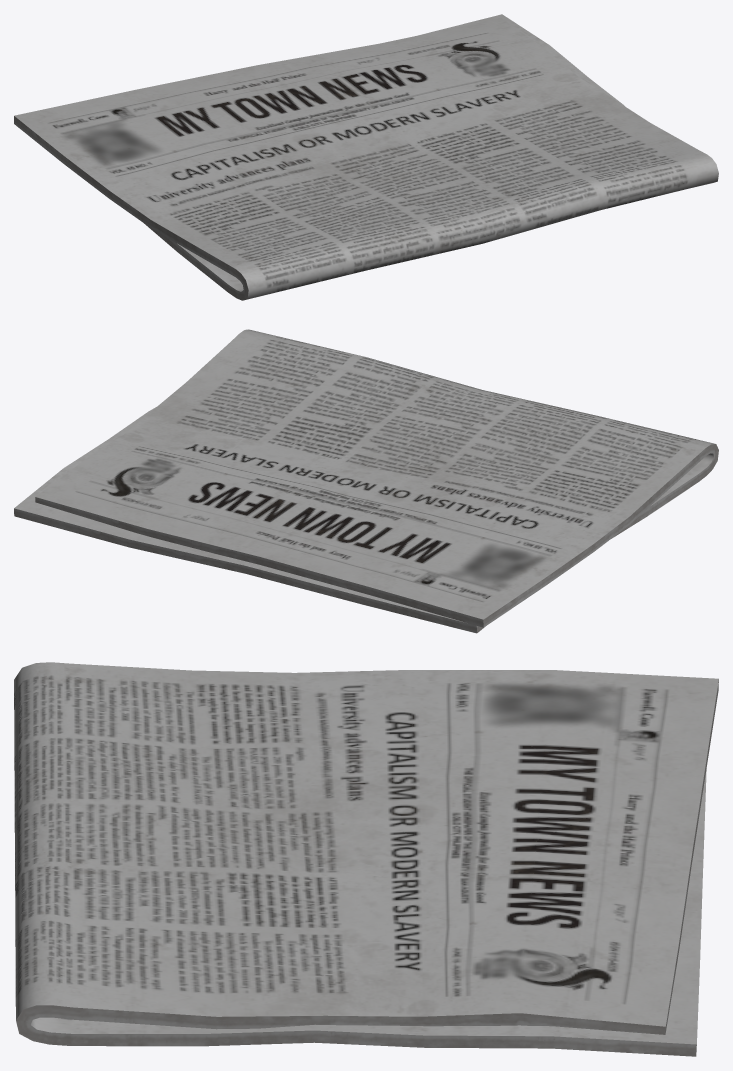
Rendered from SM_Small_Trash_NewsPaper_04.FBX.
3 views of the same model, one above another, from view 1: azimuth 30°, elevation 25°; view 2: azimuth 150°, elevation 25°; view 3: azimuth 270°, elevation 25° (orthographic). The views are drawn at different scales.
Parts seen in each view (by area): view 1: SM_Small_Trash_NewsPaper_04_LOD0; view 2: SM_Small_Trash_NewsPaper_04_LOD0; view 3: SM_Small_Trash_NewsPaper_04_LOD0.
Boxes of the visible parts, x1,y1,x2,y2 form: SM_Small_Trash_NewsPaper_04_LOD0: (14, 14, 718, 300); SM_Small_Trash_NewsPaper_04_LOD0: (14, 329, 718, 633); SM_Small_Trash_NewsPaper_04_LOD0: (14, 662, 718, 1056).
Size of what is drawn, in the model's own units: 31.11 by 26.05 by 2.05.
